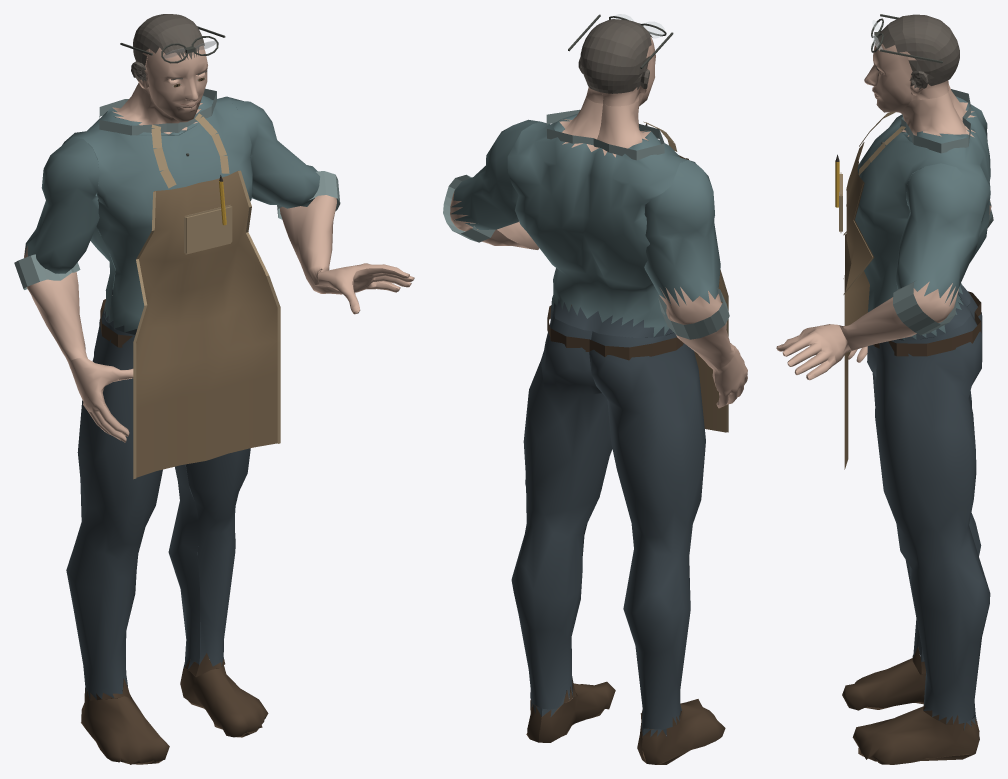
File: brian.glb
The picture shows the model from 3 angles, left to right: view 1: azimuth 30°, elevation 25°; view 2: azimuth 150°, elevation 25°; view 3: azimuth 270°, elevation 25°; orthographic projection.
Parts seen in each view (by area): view 1: Brian-workshop-teacher; view 2: Brian-workshop-teacher; view 3: Brian-workshop-teacher.
Part boxes in pixels (x1,y1,x2,y2): Brian-workshop-teacher: (14,14,414,764); Brian-workshop-teacher: (443,14,747,764); Brian-workshop-teacher: (776,14,993,764).
Size of the model in its own units: 0.8287 by 1.82 by 0.5023.
